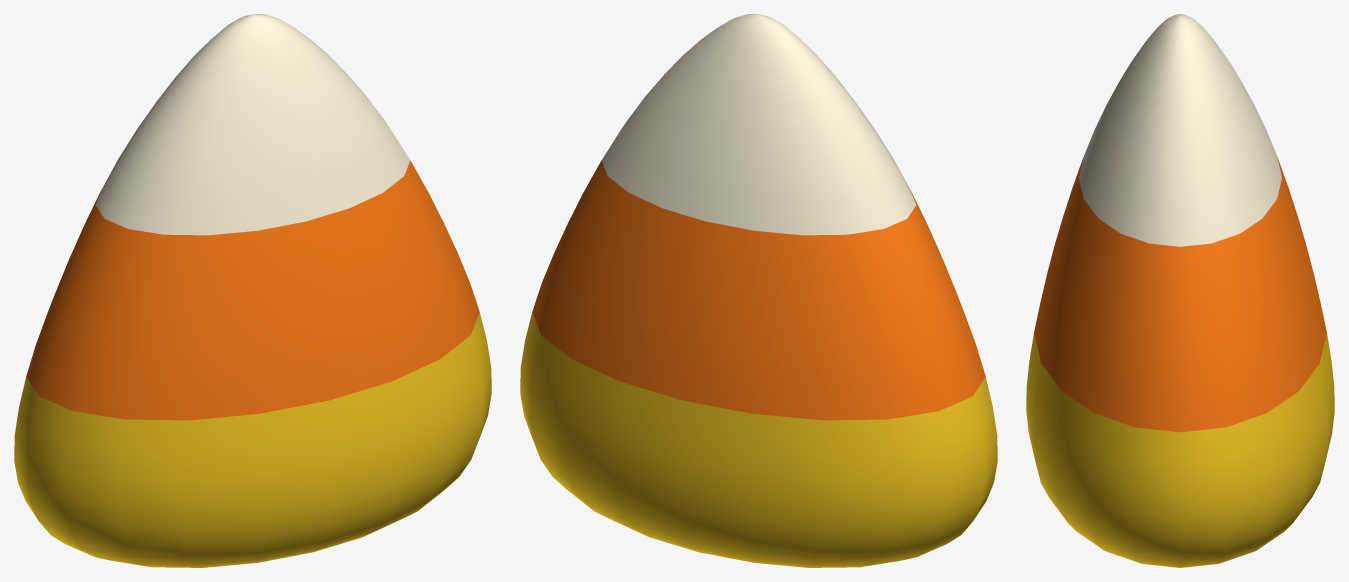
Rendered from CandyCorn.fbx.
The picture shows the model from 3 angles, left to right: view 1: azimuth 30°, elevation 25°; view 2: azimuth 150°, elevation 25°; view 3: azimuth 270°, elevation 25°; orthographic projection. The views are drawn at different scales.
Visible parts, largest first — view 1: CandyCorn; view 2: CandyCorn; view 3: CandyCorn.
Part boxes in pixels (x1,y1,x2,y2): CandyCorn: (14,14,491,567); CandyCorn: (520,14,997,567); CandyCorn: (1026,14,1334,567).
Size of the model in its own units: 160 by 172 by 99.2.
Materials: 1 (1 with a texture image).
